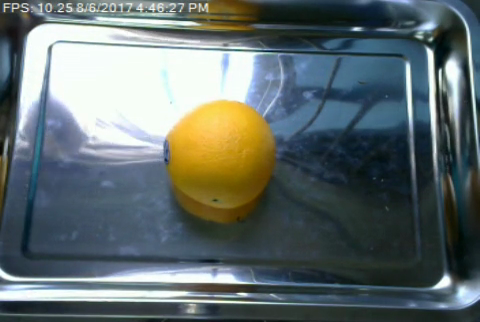Orange: (163, 101, 277, 208)
